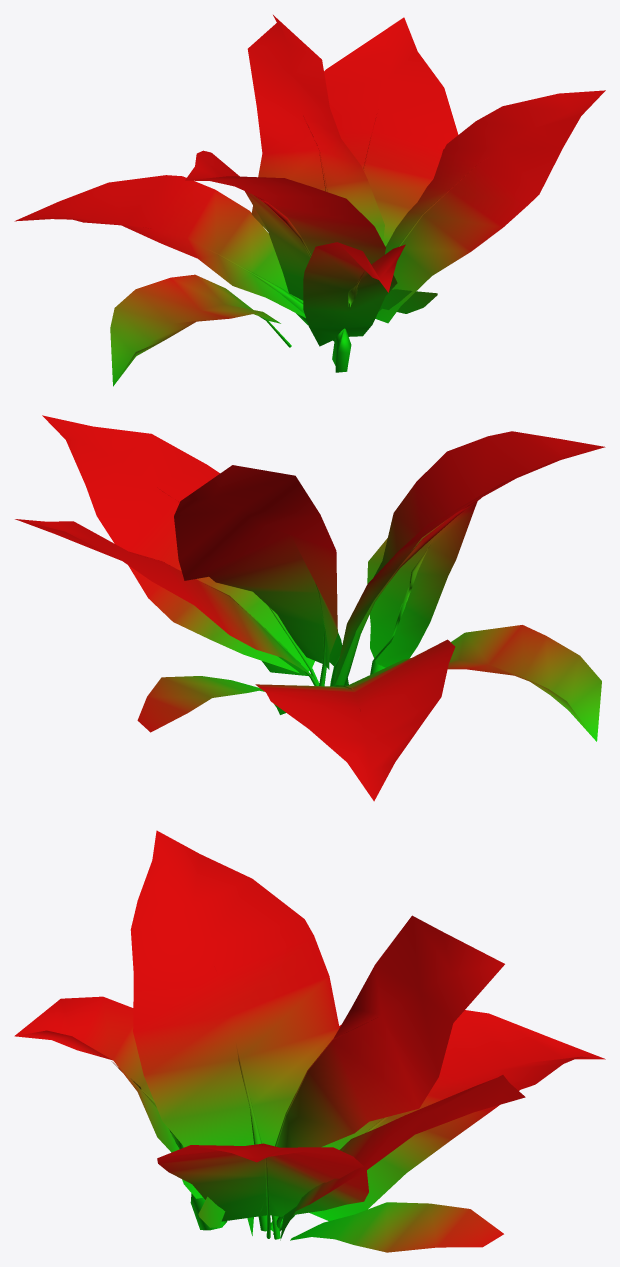
Rendered from Lady Fern_LOD3_Var6_wdvlditia.fbx.
The picture shows the model from 3 angles, top to bottom: view 1: azimuth 30°, elevation 25°; view 2: azimuth 150°, elevation 25°; view 3: azimuth 270°, elevation 25°; orthographic projection. The views are drawn at different scales.
Parts seen in each view (by area): view 1: _q4nx_Var6_LOD3; view 2: _q4nx_Var6_LOD3; view 3: _q4nx_Var6_LOD3.
Part boxes in pixels (bbox=[...]): _q4nx_Var6_LOD3: bbox=[14, 15, 605, 386]; _q4nx_Var6_LOD3: bbox=[15, 415, 605, 801]; _q4nx_Var6_LOD3: bbox=[14, 830, 605, 1252].
Size of the model in its own units: 80.41 by 41.61 by 70.14.
